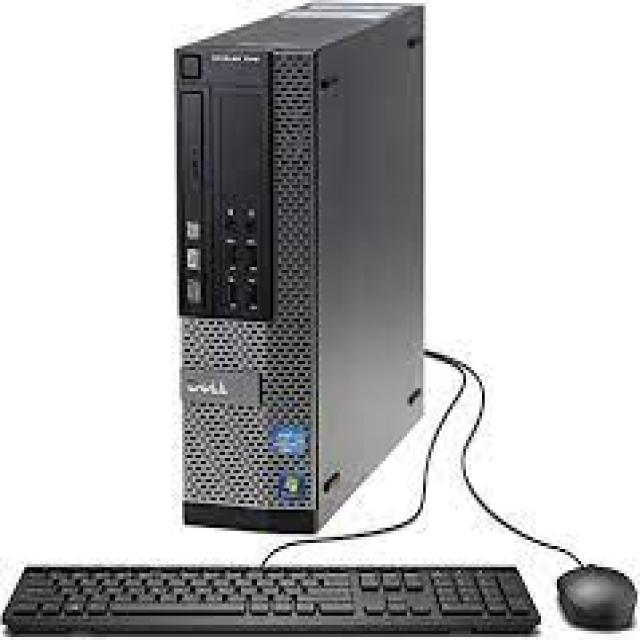Computer: (159, 0, 444, 541)
